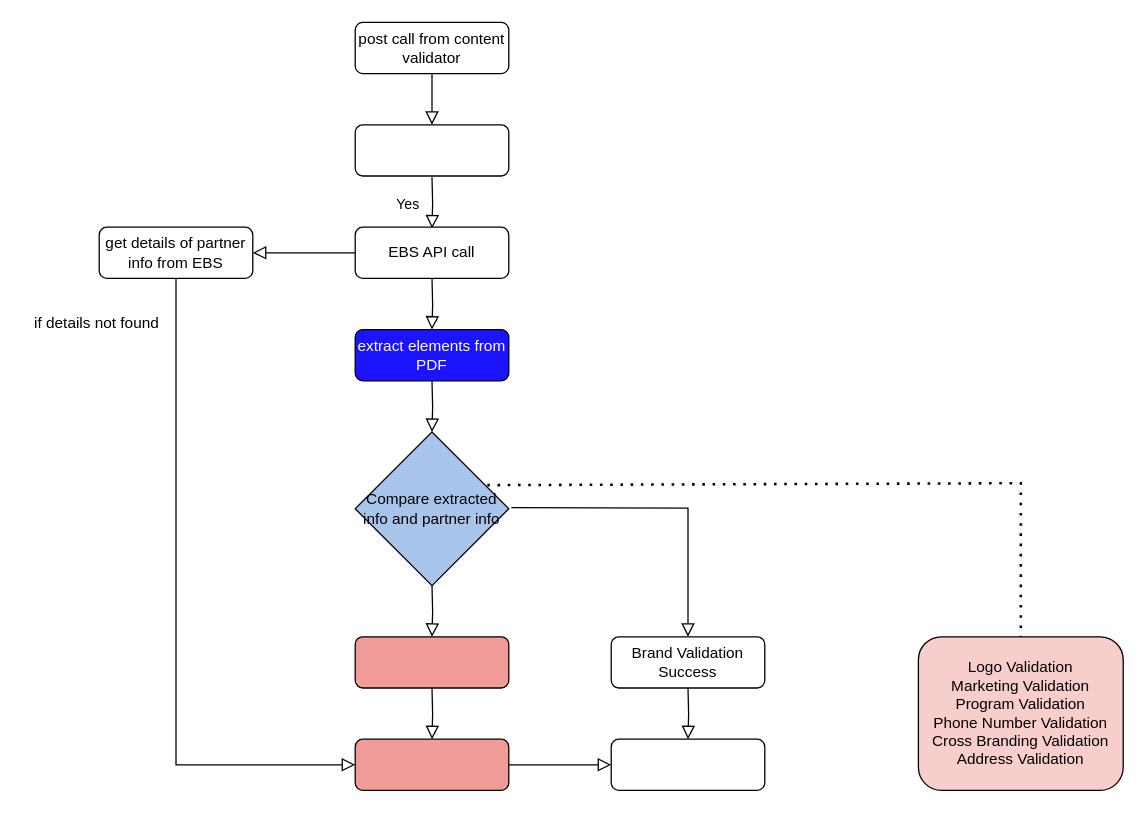
This 1146x813 diagram has some shape labels left out. Here are the shapes that lost their labels. From the top down, the centre of each, then its label:
point 431,150: Extract policy number from PDF
point 431,662: Brand Validation Failure
point 431,764: STOP
point 687,764: Record transaction in DB
